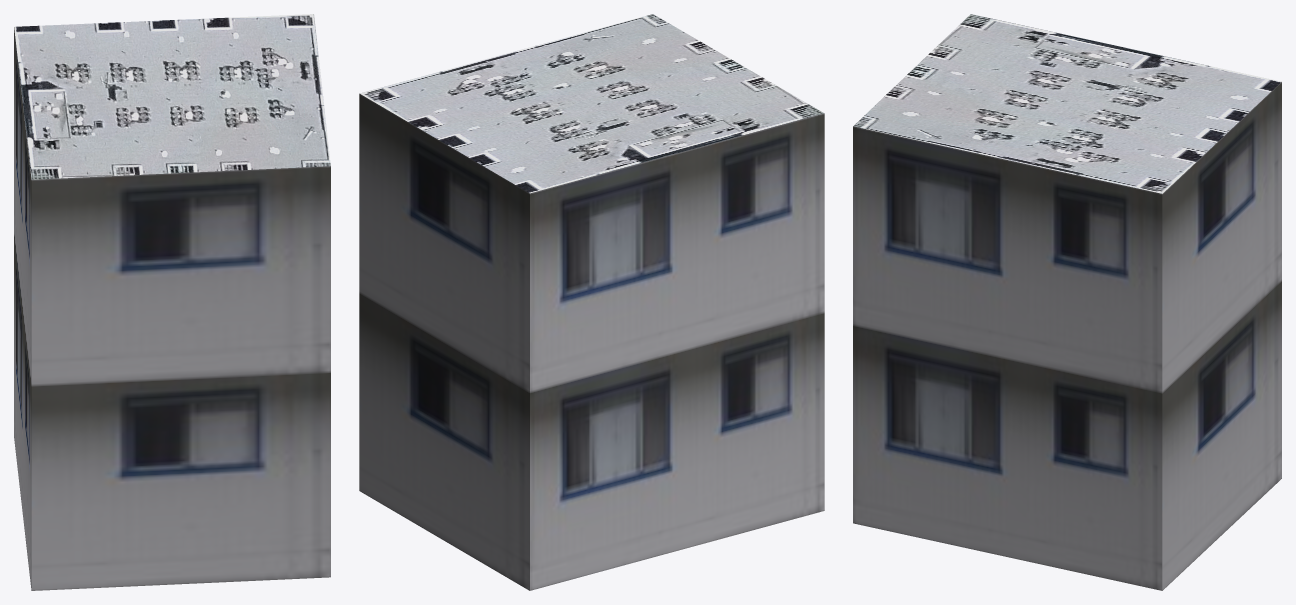
Rendered from ResTex__2566.fbx.
3 views of the same model, side by side, from view 1: azimuth 30°, elevation 25°; view 2: azimuth 150°, elevation 25°; view 3: azimuth 270°, elevation 25° (orthographic). The views are drawn at different scales.
Visible parts, largest first — view 1: CityEngineMaterial_9_m, CityEngineMaterial_m; view 2: CityEngineMaterial_9_m, CityEngineMaterial_m; view 3: CityEngineMaterial_9_m, CityEngineMaterial_m.
Part boxes in pixels (bbox=[...]): CityEngineMaterial_9_m: bbox=[14, 27, 330, 590]; CityEngineMaterial_m: bbox=[14, 14, 330, 179]; CityEngineMaterial_9_m: bbox=[359, 93, 824, 590]; CityEngineMaterial_m: bbox=[360, 14, 823, 193]; CityEngineMaterial_9_m: bbox=[853, 82, 1281, 590]; CityEngineMaterial_m: bbox=[853, 14, 1281, 193].
Bounding box in the file's own units: 5.83 × 6 × 5.87.
2 materials, 2 textured.
